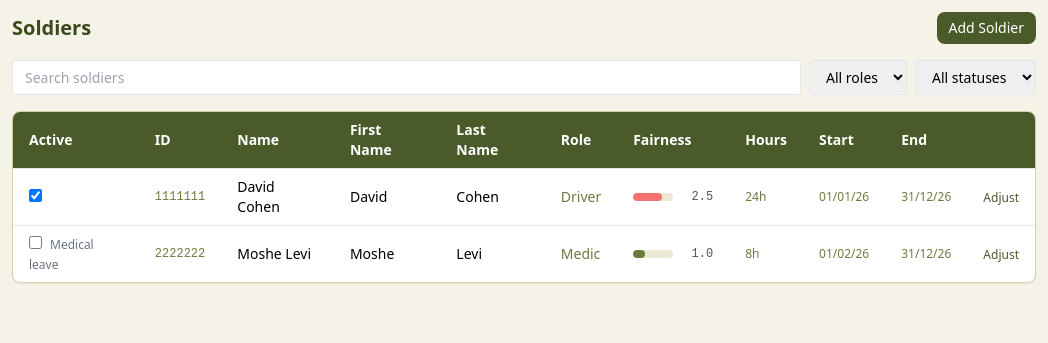
Test: SoldiersPage › shows inline reason input when Active soldier checkbox is unchecked
Click the checkbox named "active status" next to "1111111" at {"x": 36, "y": 196}, box [29,189,42,202]
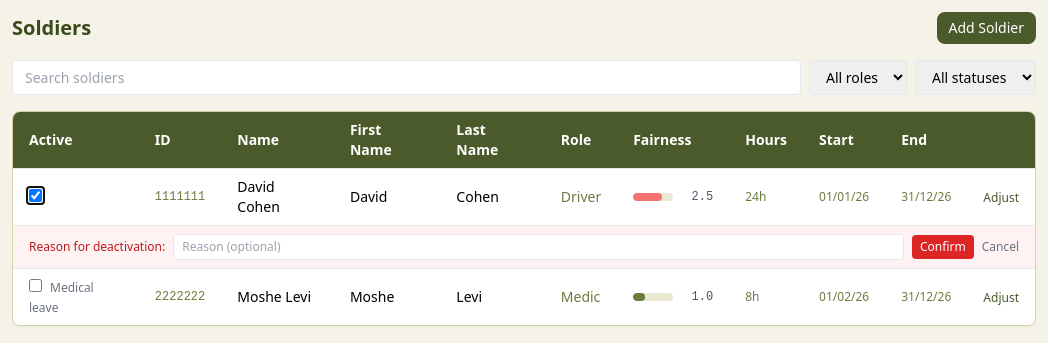
Result: the field with placeholder "Reason (optional)" is shown at [173,234,904,260]
